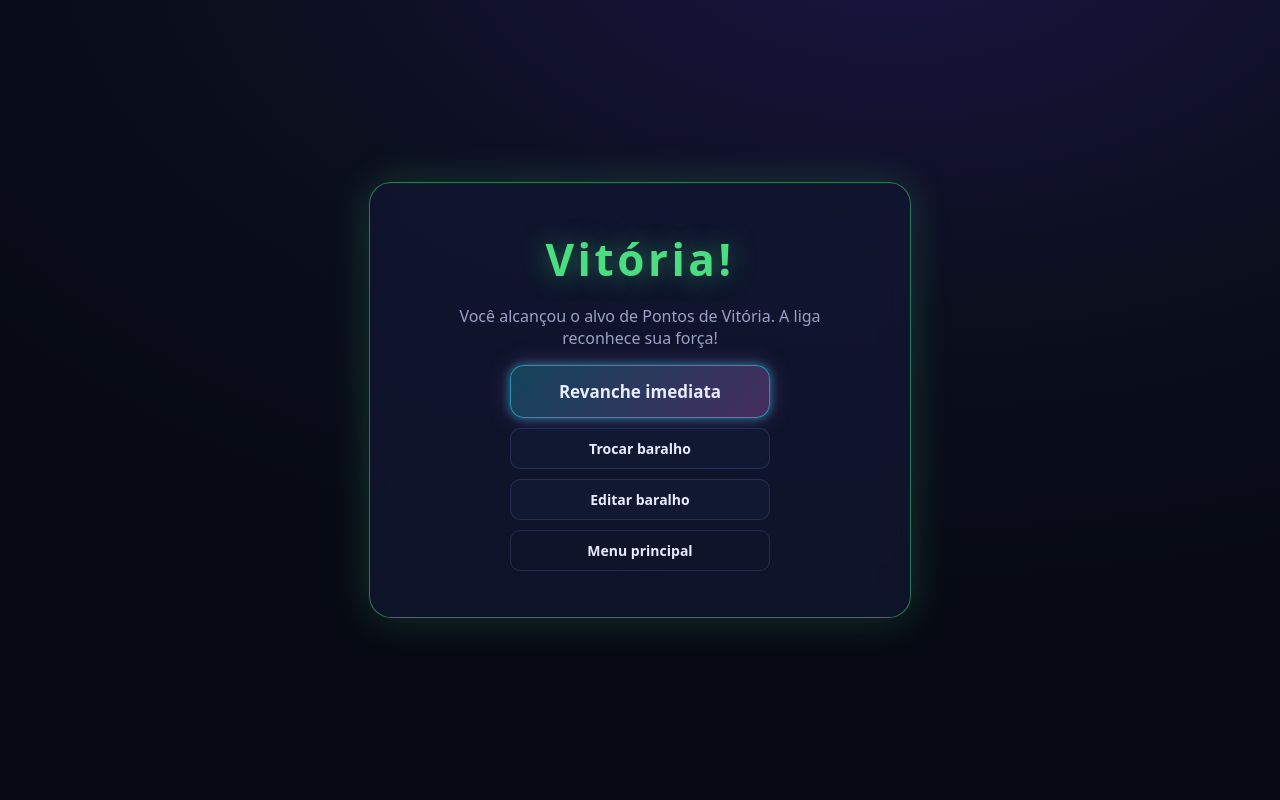
Scenario: fluxo de produto (UI real) › trocar baralho a partir do resultado leva à seleção
The width and height of the screenshot is (1280, 800).
Click the button with test id "results-change-deck". click: [640, 448]
box: [510,428,770,469]
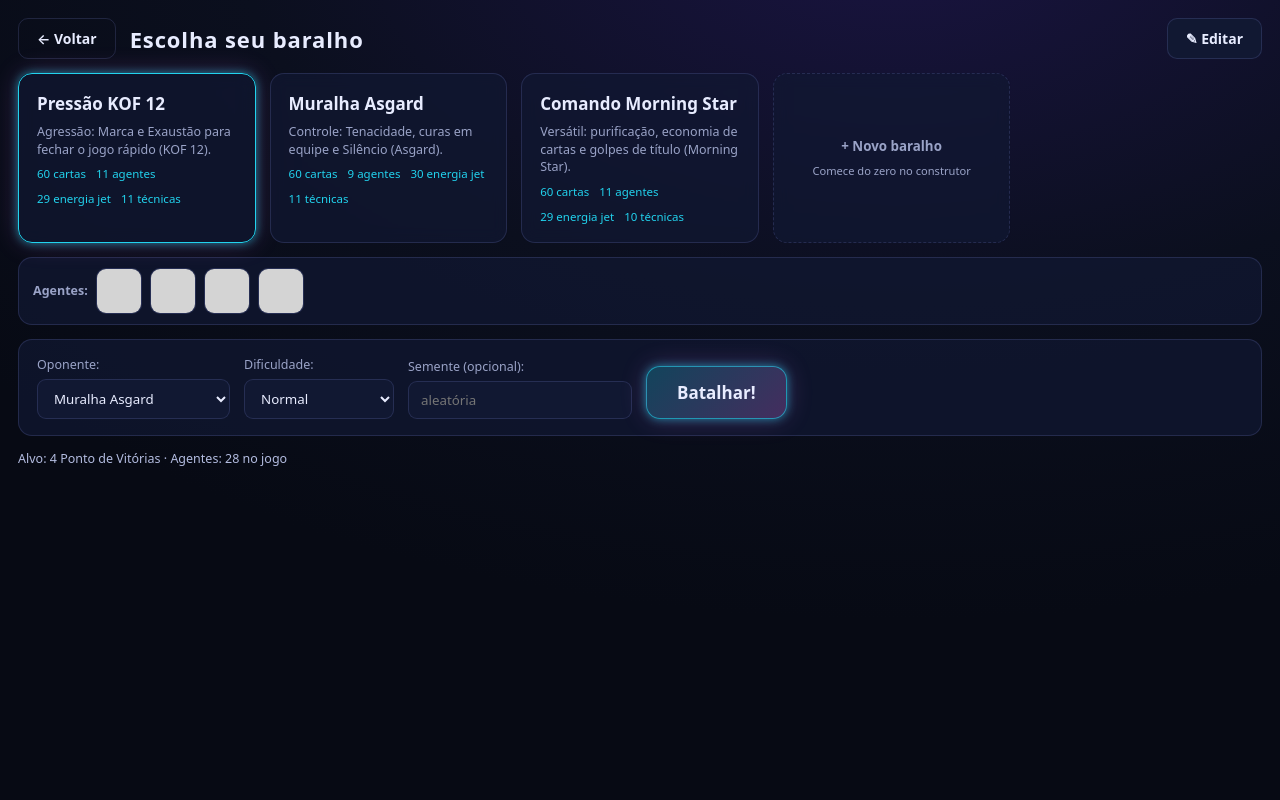
Expected: the element with test id "deck-select-screen" is shown, [18,18,1262,466]
